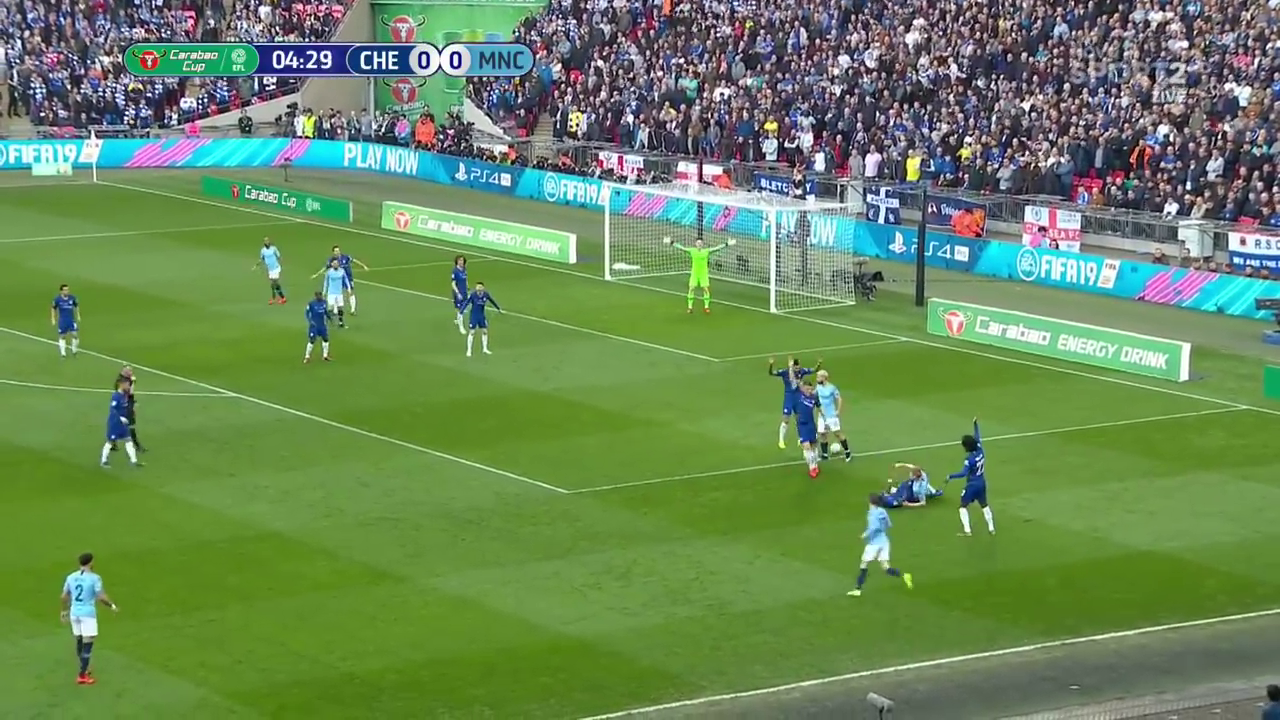ball: (826, 440, 841, 454)
player: (61, 550, 121, 692), (848, 492, 915, 602), (946, 416, 997, 540), (807, 369, 853, 461), (768, 351, 806, 442), (103, 379, 143, 465), (465, 282, 507, 358), (790, 380, 821, 473), (50, 281, 83, 356), (121, 362, 148, 451), (301, 290, 332, 364), (256, 236, 289, 305), (451, 255, 469, 329)
